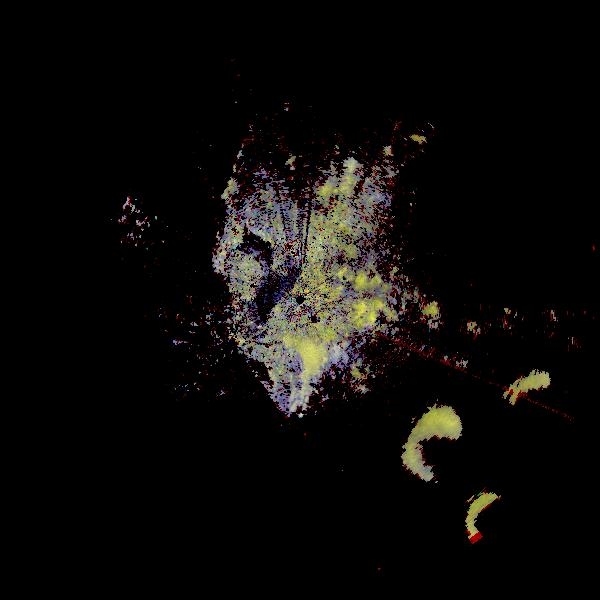roost: (391, 389, 523, 521), (495, 355, 600, 463), (245, 324, 347, 426), (452, 479, 548, 575)
